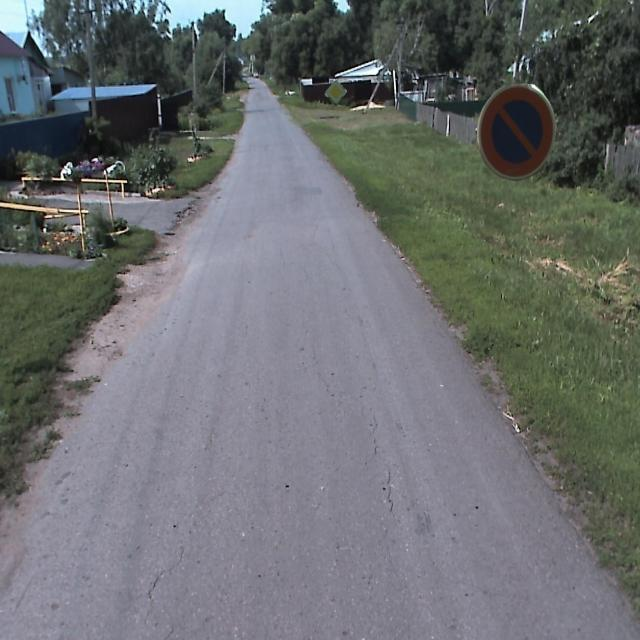road: (0, 79, 639, 639)
